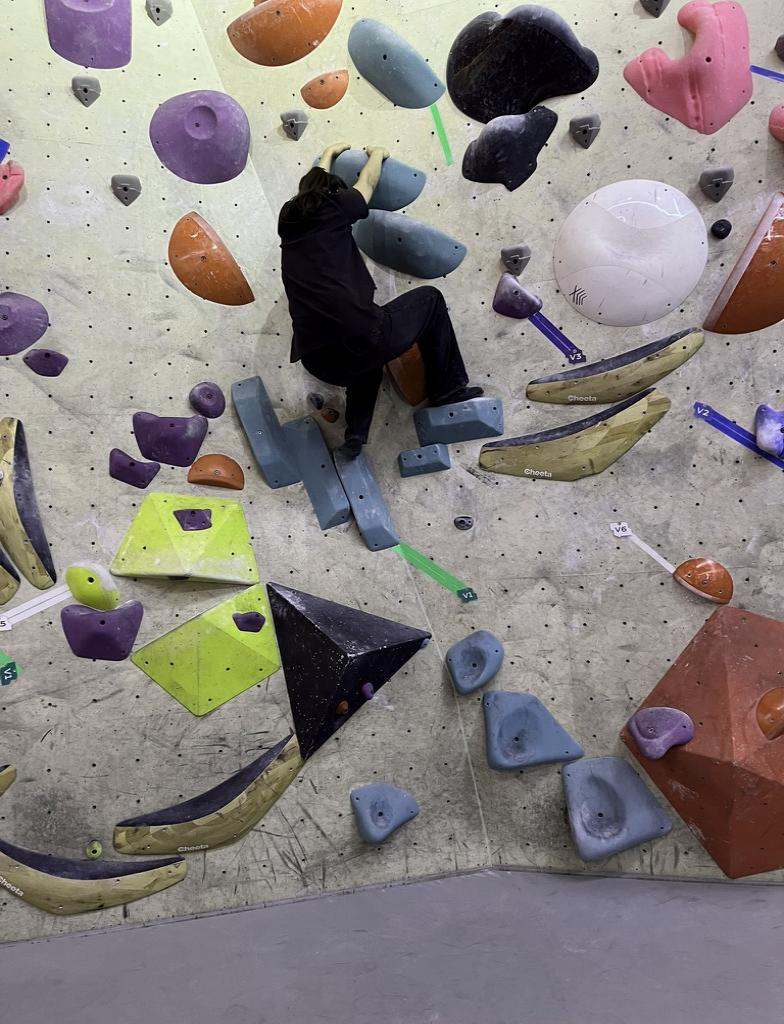crimp: (174, 508, 211, 530), (233, 612, 264, 631)
downhold: (700, 167, 733, 202), (570, 114, 599, 147), (111, 174, 140, 205), (502, 243, 529, 276), (280, 108, 307, 140), (72, 75, 100, 105), (146, 0, 172, 24)
jug: (446, 4, 598, 121), (624, 0, 751, 133), (349, 19, 443, 108), (463, 106, 556, 189), (354, 210, 466, 278), (61, 601, 142, 660), (134, 412, 206, 466), (65, 562, 118, 610), (493, 273, 541, 318), (109, 448, 159, 487), (189, 382, 225, 418)
ledge: (114, 734, 303, 854), (132, 586, 279, 715), (480, 387, 670, 479), (0, 840, 186, 914), (527, 328, 702, 404), (229, 0, 342, 65), (413, 397, 503, 446), (300, 71, 347, 108)
pinch: (232, 376, 299, 488), (283, 416, 349, 529), (333, 449, 398, 549)
sidepull: (169, 212, 253, 304)
sloper: (553, 179, 707, 325), (150, 90, 249, 183)
tape: (693, 403, 783, 471), (392, 543, 477, 602), (0, 585, 70, 631), (610, 523, 674, 573), (530, 312, 585, 362), (431, 103, 453, 165), (750, 65, 783, 81)
undercling: (110, 494, 258, 585), (630, 707, 693, 759), (674, 558, 731, 603), (187, 455, 243, 489)
volume: (622, 607, 783, 877), (267, 583, 429, 758)
